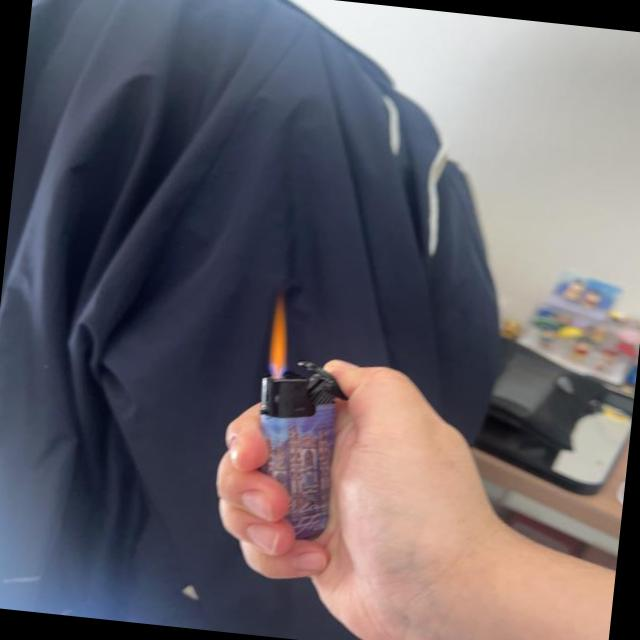Fire: (264, 295, 298, 375)
